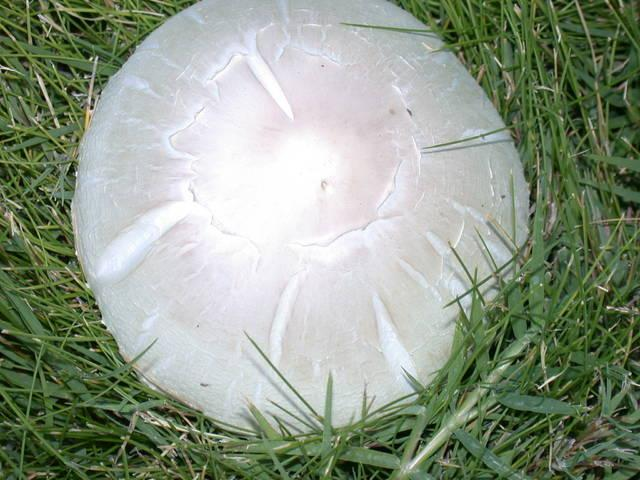Non-edible Mushroom: (69, 0, 533, 442)
